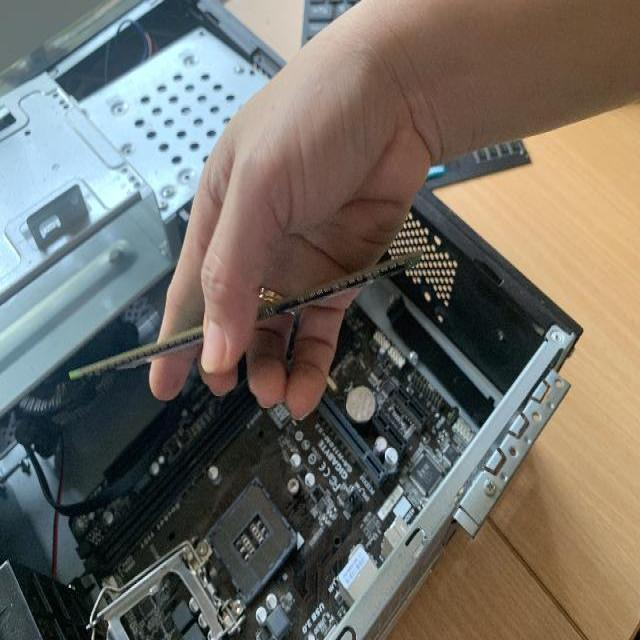Mainboard: (36, 285, 496, 640)
RAM: (62, 238, 425, 389)
